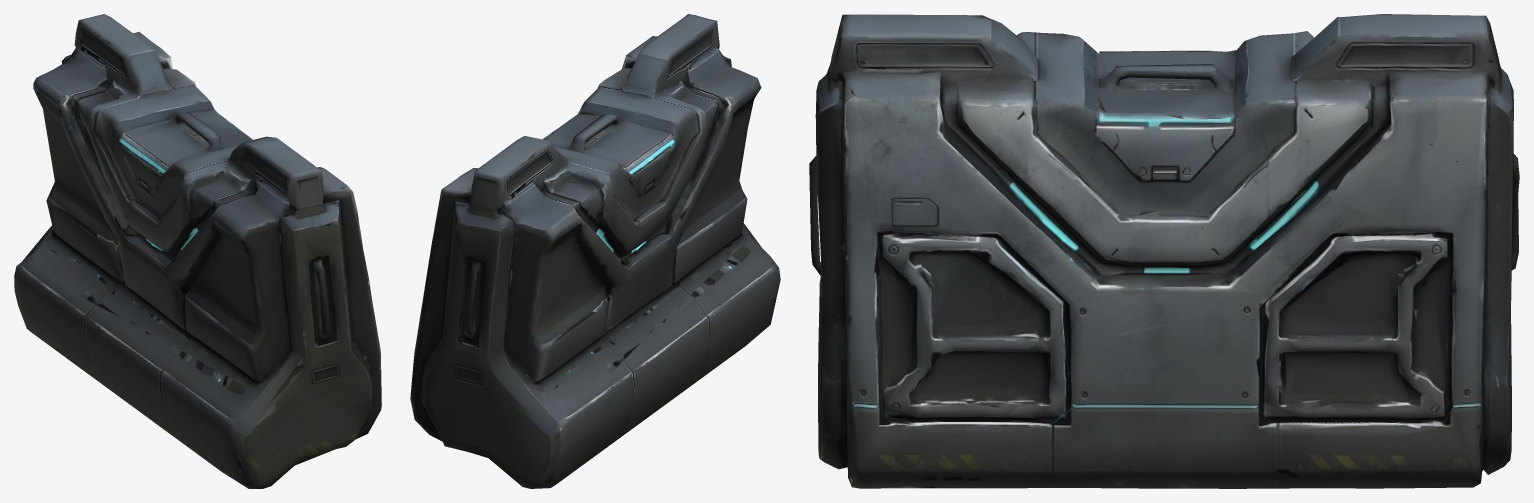
File: couvert_bas_01.glb
3 renders of one model, left to right at view 1: azimuth 30°, elevation 25°; view 2: azimuth 150°, elevation 25°; view 3: azimuth 270°, elevation 25°, orthographic. The views are drawn at different scales.
Parts seen in each view (by area): view 1: tripo_node_fd264d09-963c-4a82-8567-b8a783bbf948; view 2: tripo_node_fd264d09-963c-4a82-8567-b8a783bbf948; view 3: tripo_node_fd264d09-963c-4a82-8567-b8a783bbf948.
Part boxes in pixels (bbox=[...]): tripo_node_fd264d09-963c-4a82-8567-b8a783bbf948: bbox=[14, 14, 381, 488]; tripo_node_fd264d09-963c-4a82-8567-b8a783bbf948: bbox=[410, 14, 780, 488]; tripo_node_fd264d09-963c-4a82-8567-b8a783bbf948: bbox=[809, 14, 1519, 488].
Bounding box in the file's own units: 0.3825 × 0.6936 × 0.9953.
1 material, 1 textured.
